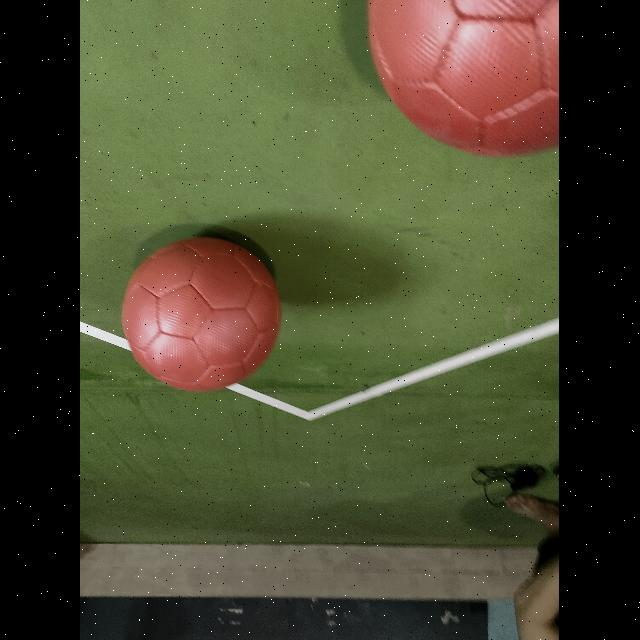R: (368, 0, 560, 156), (123, 237, 281, 391)
